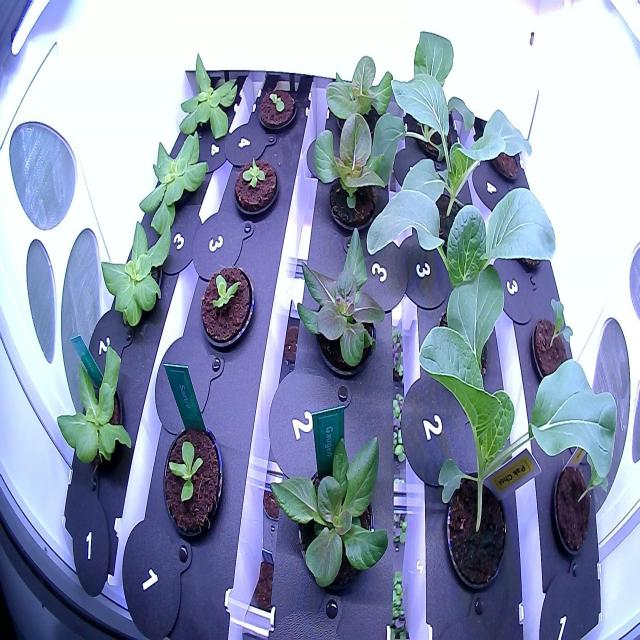germination: (253, 76, 304, 139)
young: (264, 422, 394, 603), (292, 222, 388, 388), (95, 203, 184, 341), (51, 339, 138, 480), (301, 109, 391, 242), (158, 413, 232, 543), (136, 126, 214, 241), (319, 45, 398, 145), (172, 44, 240, 154), (196, 254, 258, 359), (229, 150, 282, 220)
